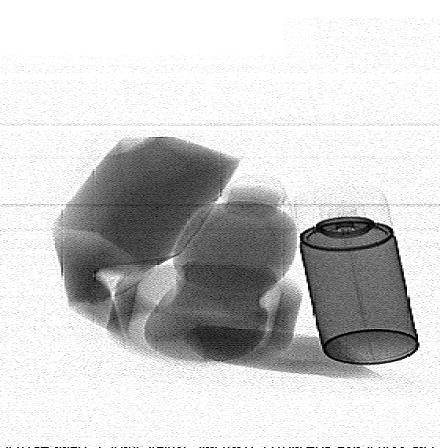Sprayer: (291, 185, 420, 364)
